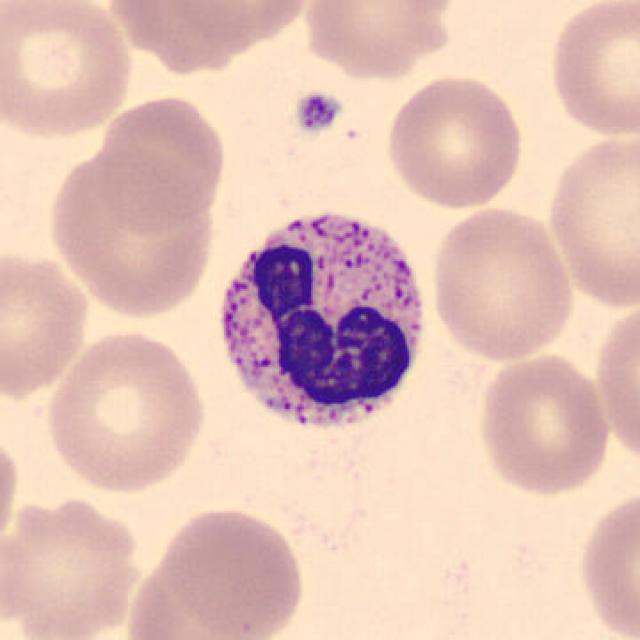Neutrophil: (205, 196, 439, 451)
Platelets: (291, 88, 345, 138)
RBC: (41, 141, 222, 321), (41, 324, 210, 498), (425, 203, 578, 365), (146, 501, 309, 638), (0, 490, 148, 640), (380, 70, 528, 212), (473, 349, 613, 499), (0, 0, 139, 143), (94, 90, 231, 234), (542, 128, 638, 308), (0, 241, 92, 405), (544, 0, 638, 141), (297, 0, 460, 81), (574, 485, 640, 640), (590, 294, 638, 469), (162, 0, 316, 48), (0, 418, 25, 562), (350, 0, 469, 19)
